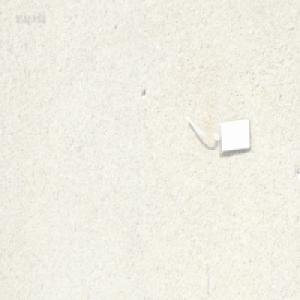LuggageTag: (183, 113, 252, 155)
